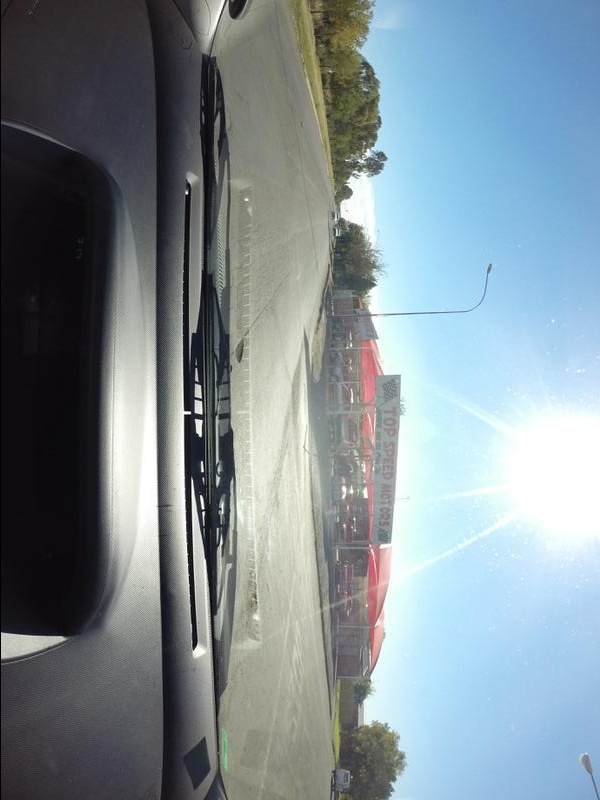pothole: (248, 583, 262, 620), (234, 339, 250, 363)
